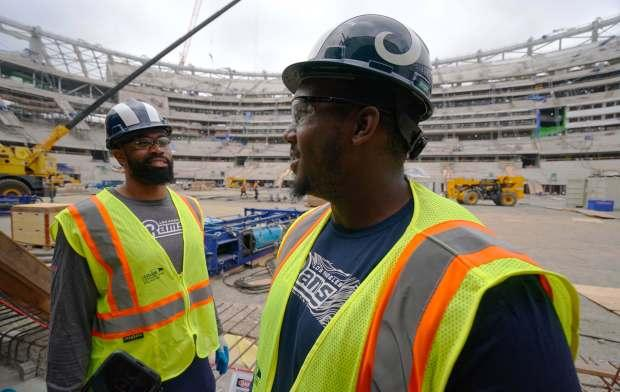helmet: (280, 13, 437, 125), (105, 101, 175, 152)
